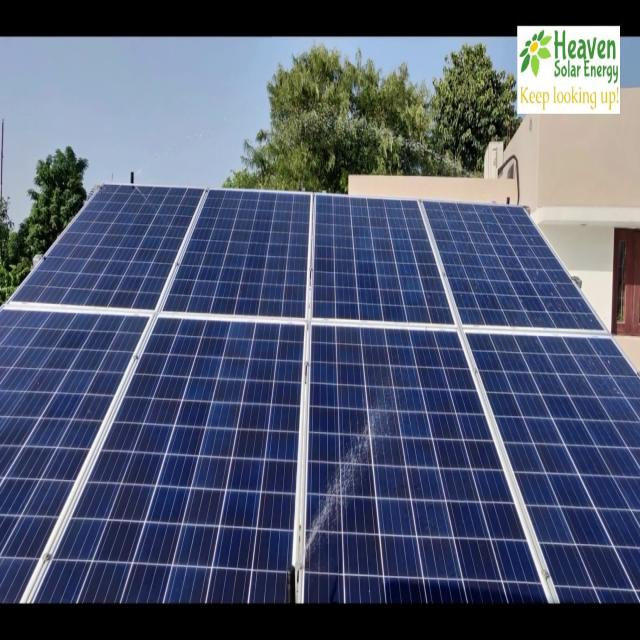clean-solar-panel: (1, 184, 640, 602)
